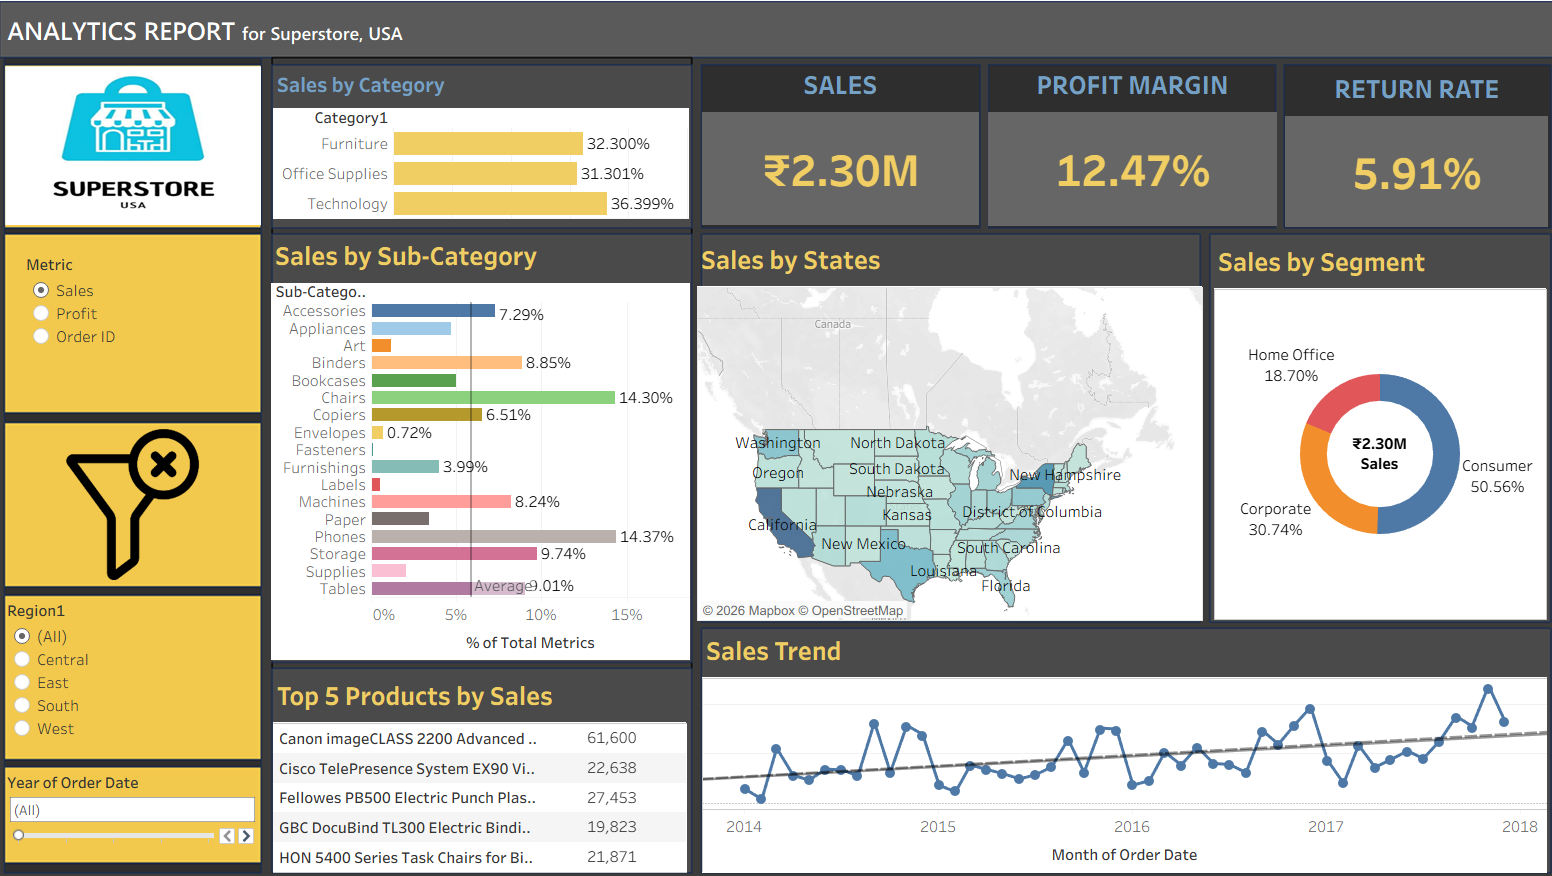

What the dashboard file says about the page in this screenshot:
{"tool":"tableau","page":{"name":"Dashboard 2","canvas":[1600,900],"ordinal":1},"visuals":[{"type":"image","param":"Image/Slide1.PNG","box":[8,8,1584,884]},{"type":"text","box":[17,16,511,51]},{"type":"worksheet","title":"Assignment 7 (4)","mark":"Automatic","box":[715,74,277,162]},{"type":"worksheet","title":"Assignment 7 (5)","mark":"Automatic","box":[1001,74,289,163]},{"type":"image","param":"Image/Logo - Copy.png","box":[18,77,256,162]},{"type":"worksheet","title":"Assignment 7 (2)","mark":"Automatic","rows":["Category"],"cols":["Calculation_1207853705064460"],"box":[286,77,416,162]},{"type":"worksheet","title":"Assignment 7 (6)","mark":"Automatic","box":[1298,78,264,160]},{"type":"worksheet","title":"Assignment 7","mark":"Automatic","rows":["Sub-Category"],"cols":["Calculation_1207853705064460"],"box":[284,245,419,426]},{"type":"worksheet","title":"Assignment 7 (8)","mark":"Multipolygon","box":[710,249,506,383]},{"type":"worksheet","title":"Assignment 7 (7)","mark":"Pie","rows":["Calculation_1894766404337675","Calculation_1894766404354061"],"box":[1227,251,333,380]},{"type":"parameter","param":"[Parameters].[Parameter 1894766419525646]","box":[39,265,226,152]},{"type":"dashboard-object","box":[20,440,250,151]},{"type":"filter","title":"Assignment 7 (9)","param":"[federated.0edlraj1anpspn1djd8ef1rr8pt8].[none:Region:nk]","box":[16,607,259,172]},{"type":"worksheet","title":"Assignment 7 (9)","mark":"Line","rows":["Calculation_1207853705064460","Calculation_1207853705064460"],"cols":["Order Date"],"box":[715,640,846,244]},{"type":"worksheet","title":"Assignment 7 (3)","mark":"Automatic","rows":["Product Name"],"box":[286,685,419,199]},{"type":"filter","title":"Assignment 7 (9)","param":"[federated.0edlraj1anpspn1djd8ef1rr8pt8].[yr:Order Date:ok]","box":[16,779,259,89]}]}

Visuals, with their boxes in screenshot pixels (x1, y1, x2, y2), scaled from the page's 1600x900 canvas onto the 1552x876 screenshot:
image: 8, 8, 1544, 868
text: 16, 16, 512, 65
"Assignment 7 (4)" worksheet: 694, 72, 962, 230
"Assignment 7 (5)" worksheet: 971, 72, 1251, 231
image: 17, 75, 266, 233
"Assignment 7 (2)" worksheet: 277, 75, 681, 233
"Assignment 7 (6)" worksheet: 1259, 76, 1515, 232
"Assignment 7" worksheet: 275, 238, 682, 653
"Assignment 7 (8)" worksheet (Multipolygon marks): 689, 242, 1180, 615
"Assignment 7 (7)" worksheet (Pie marks): 1190, 244, 1513, 614
parameter: 38, 258, 257, 406
dashboard-object: 19, 428, 262, 575
"Assignment 7 (9)" filter: 16, 591, 267, 758
"Assignment 7 (9)" worksheet (Line marks): 694, 623, 1514, 860
"Assignment 7 (3)" worksheet: 277, 667, 684, 860
"Assignment 7 (9)" filter: 16, 758, 267, 845
